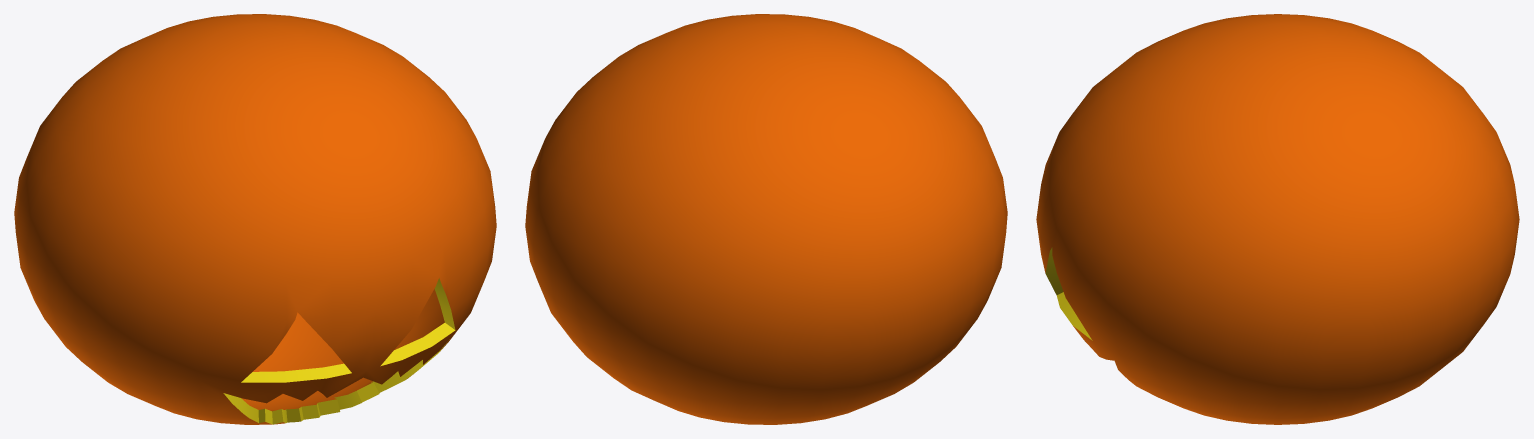
File: pumpkin.fbx
3 renders of one model, left to right at view 1: azimuth 30°, elevation 25°; view 2: azimuth 150°, elevation 25°; view 3: azimuth 270°, elevation 25°, orthographic.
Visible parts, largest first — view 1: Pumpkin; view 2: Pumpkin; view 3: Pumpkin.
Part boxes in pixels (x1,y1,x2,y2): Pumpkin: (14, 14, 496, 424); Pumpkin: (525, 14, 1007, 424); Pumpkin: (1036, 14, 1519, 424).
Bounding box in the file's own units: 3629 × 2963 × 3629.
